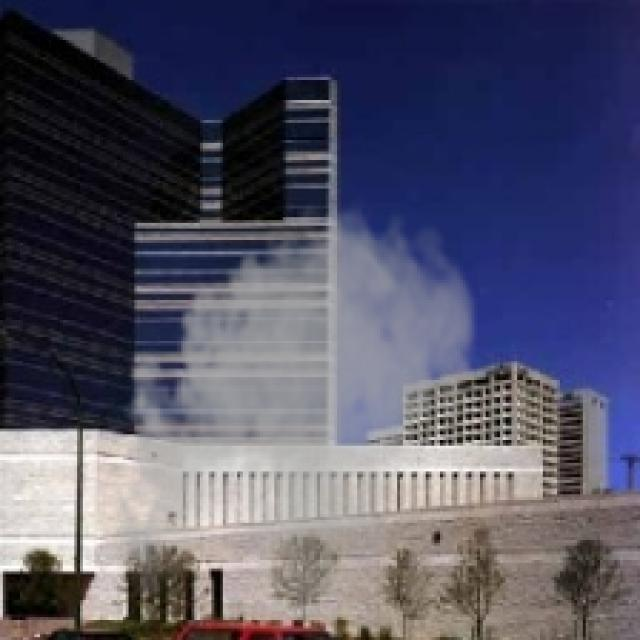smoke: (103, 194, 486, 620)
